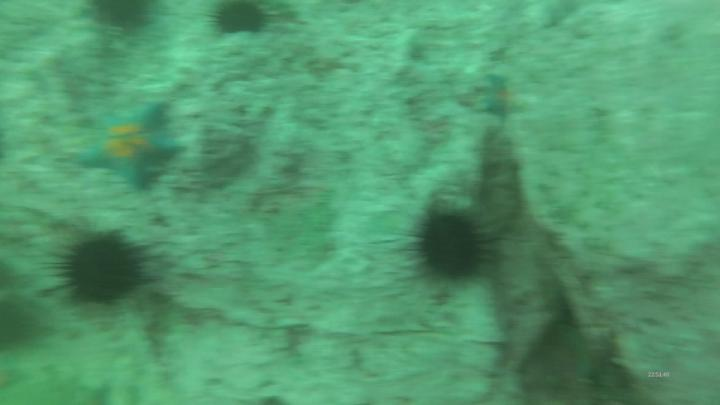echinus: (65, 242, 141, 303), (421, 212, 483, 281), (217, 6, 264, 35)
starfish: (78, 106, 185, 190), (485, 75, 511, 117)
